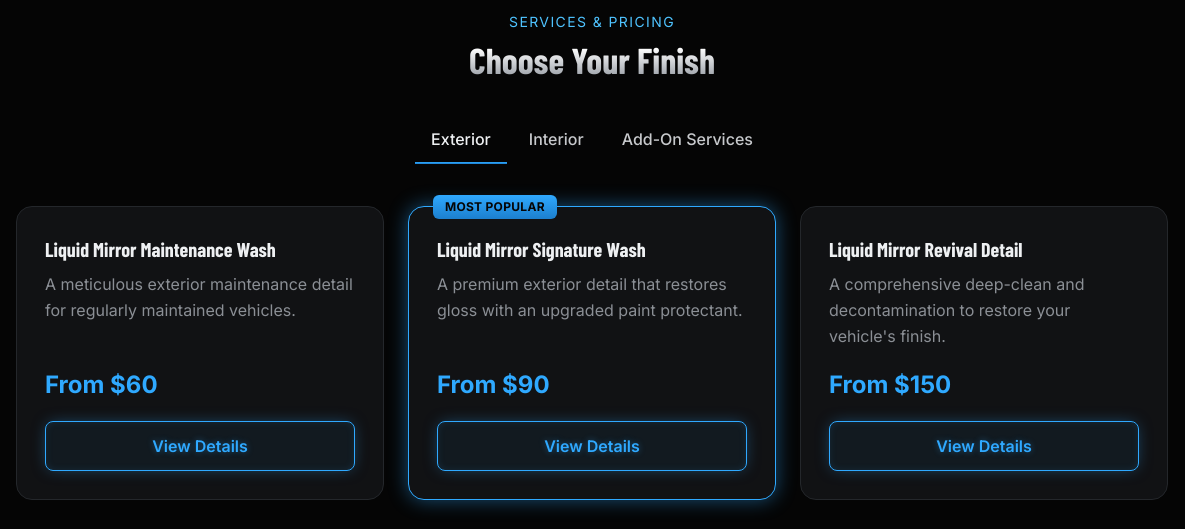
Test: ServicesSection › switches to interior packages when the Interior tab is clicked
Click the tab "Interior": point(556, 139) [529, 129, 584, 149]
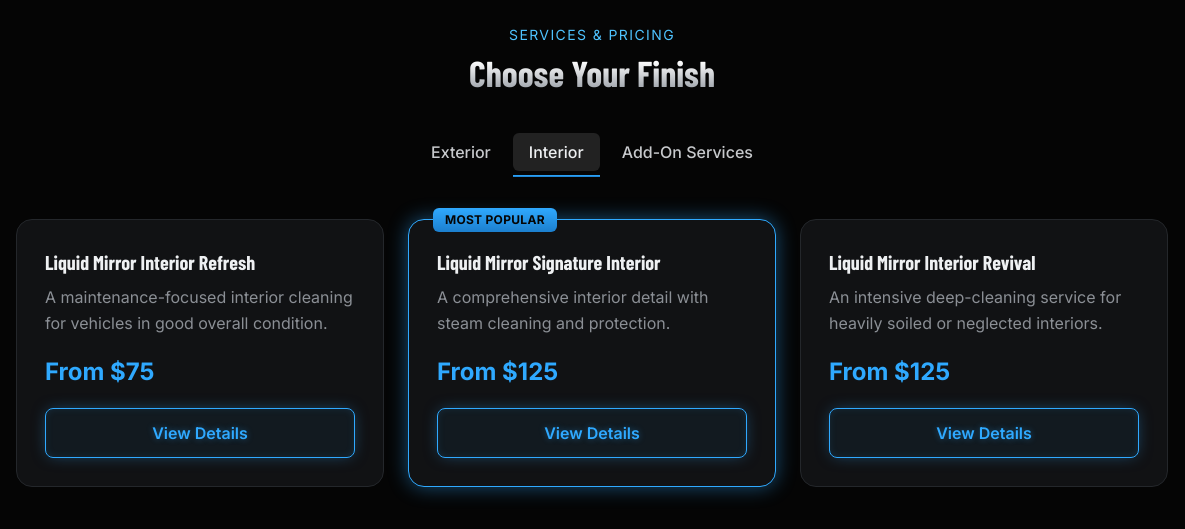
Result: the heading "Liquid Mirror Interior Refresh" is shown at [45, 250, 255, 274]
Result: the heading "Liquid Mirror Maintenance Wash" is gone
